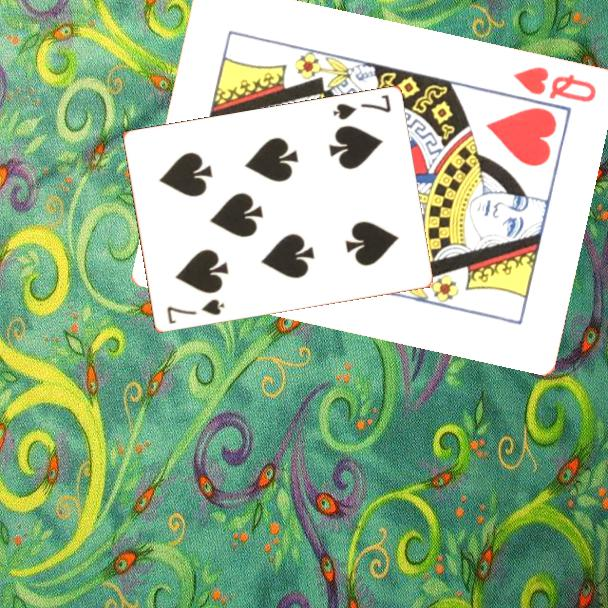h12: (510, 62, 600, 105)
s07: (329, 91, 393, 123), (163, 296, 227, 327)
